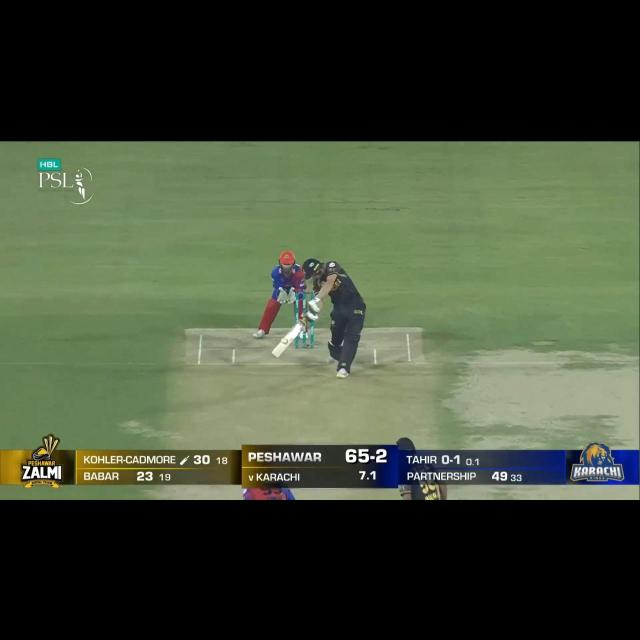bat: (272, 322, 303, 361)
toe: (273, 350, 280, 358)
